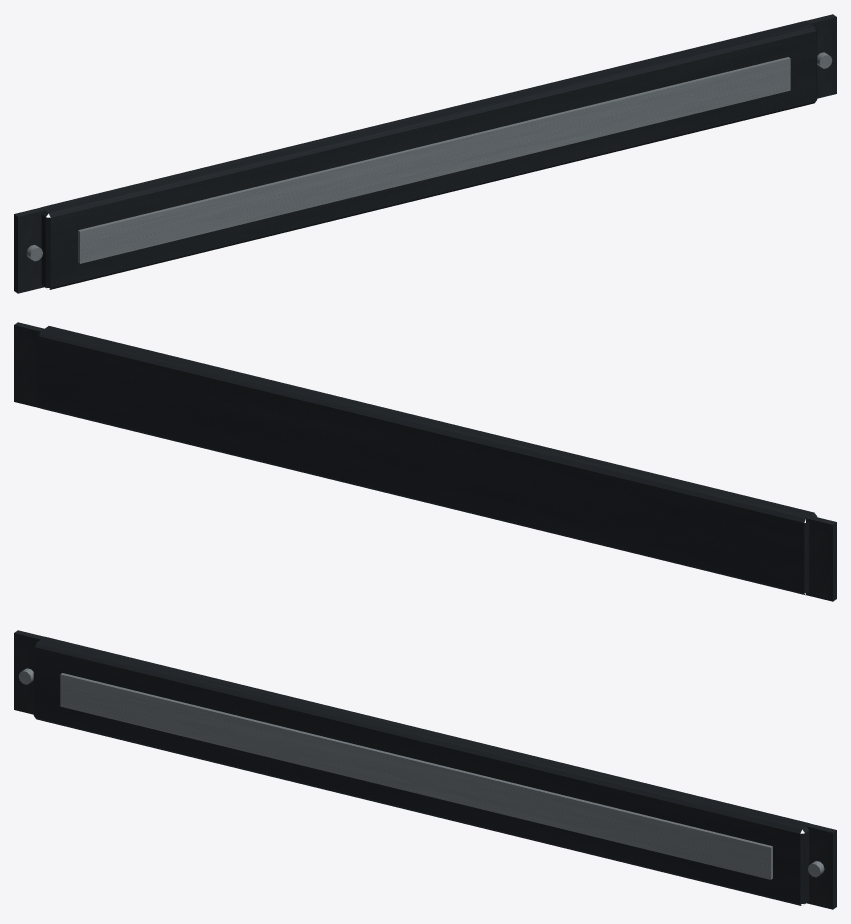
File: rack_blank_panel_1u.glb
3 renders of one model, top to bottom at view 1: azimuth 30°, elevation 25°; view 2: azimuth 150°, elevation 25°; view 3: azimuth 330°, elevation 25°, orthographic.
Parts seen in each view (by area): view 1: LOD0; view 2: LOD0; view 3: LOD0.
Part boxes in pixels (bbox=[...]): LOD0: bbox=[14, 14, 836, 293]; LOD0: bbox=[14, 322, 836, 601]; LOD0: bbox=[14, 630, 836, 909].
Size of what is drawn, in the model's own units: 0.4826 by 0.0432 by 0.014.
Materials: 3 (3 with a texture image).
